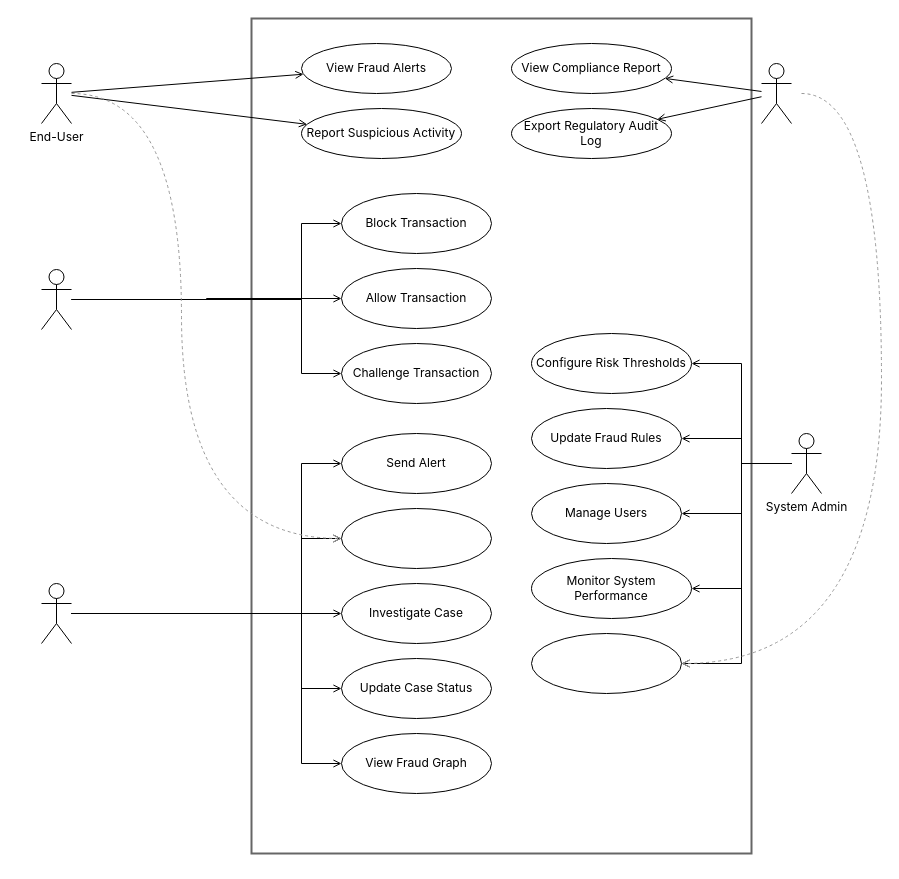
Image size: 899x879. Some labels were removed from this diagram. The shapes that lost their labels are listed below. From the top down, each one's box as (x1, y1, x2, y2) in pixels, then its label:
(760, 62, 792, 124): RBI Authority
(40, 268, 72, 330): Bank System
(250, 17, 752, 854): ARGUS — Fraud Detection System
(340, 508, 492, 568): View Fraud Alert
(40, 582, 72, 644): Fraud Analyst
(530, 632, 682, 694): View Audit Logs
